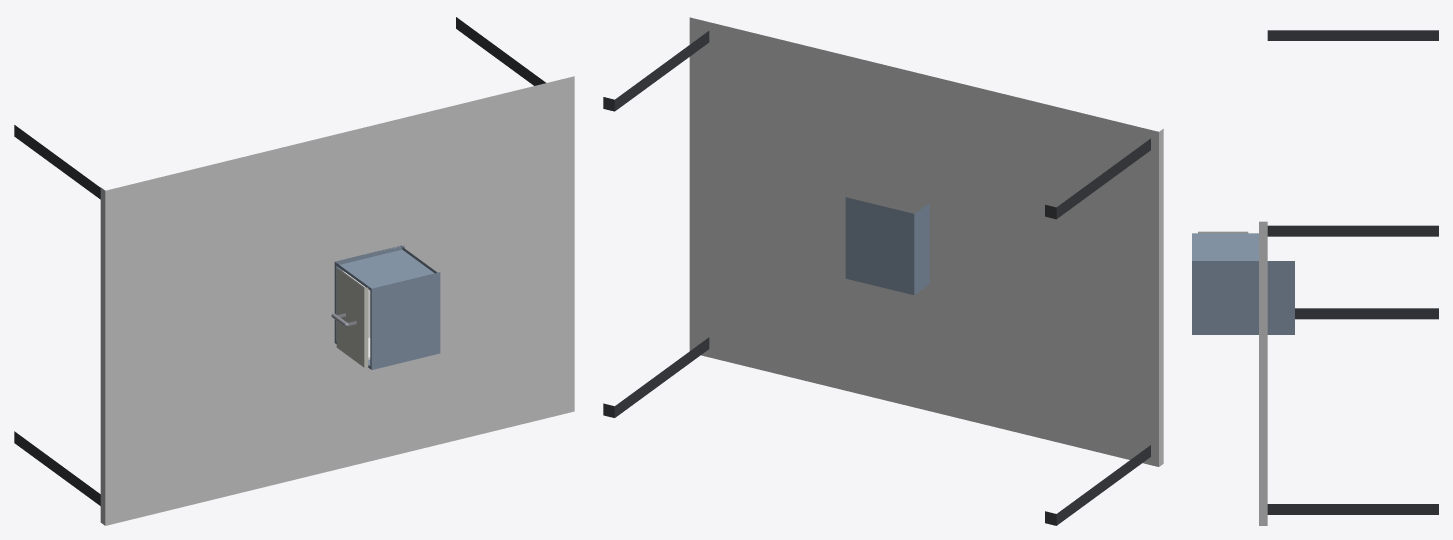
3 renders of one model, left to right at view 1: azimuth 30°, elevation 25°; view 2: azimuth 150°, elevation 25°; view 3: azimuth 270°, elevation 25°, orthographic. The views are drawn at different scales.
Parts seen in each view (by area): view 1: s0, s1, s2; view 2: s0, s1; view 3: s0, s1.
Part boxes in pixels (left/top/right/bottom): s0: left=14, top=17, right=574, bottom=525; s1: left=334, top=245, right=440, bottom=369; s2: left=331, top=268, right=370, bottom=367; s0: left=603, top=17, right=1163, bottom=525; s1: left=845, top=197, right=929, bottom=295; s0: left=1259, top=30, right=1438, bottom=525; s1: left=1192, top=233, right=1294, bottom=334.
Size of the model in its own units: 2.05 by 1.4 by 1.03.
